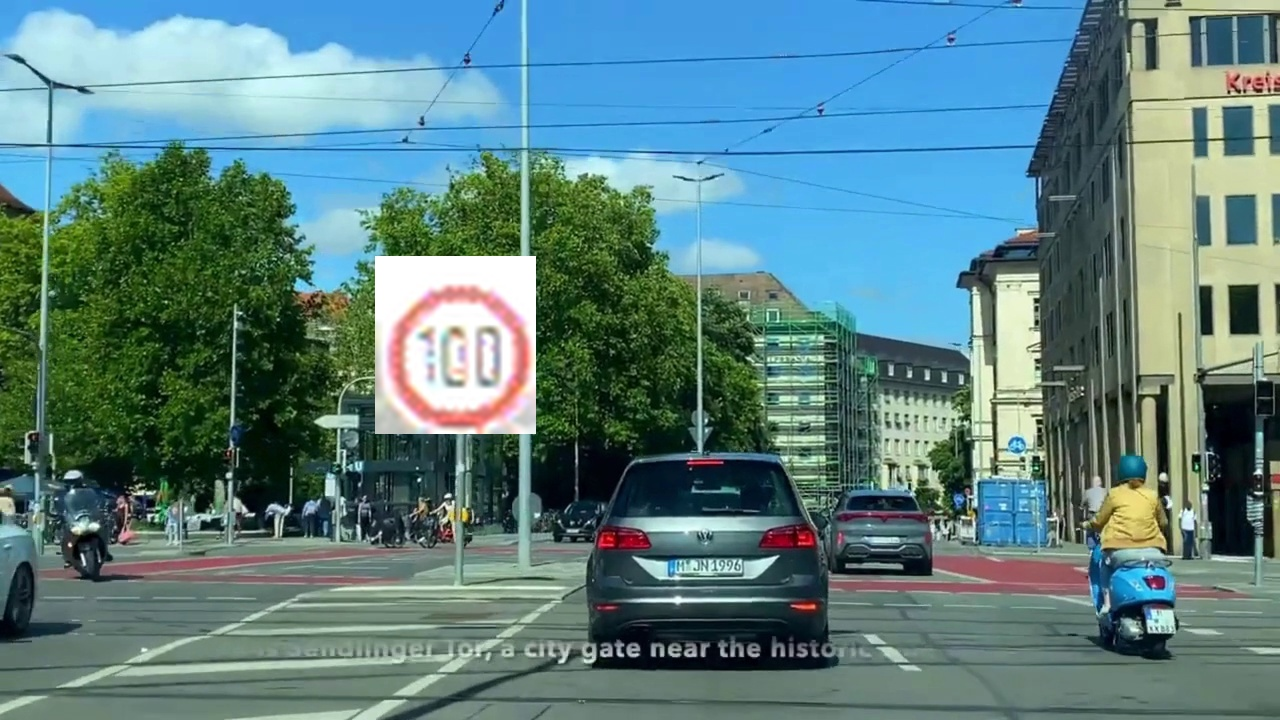Speed 100: (375, 256, 536, 434)
